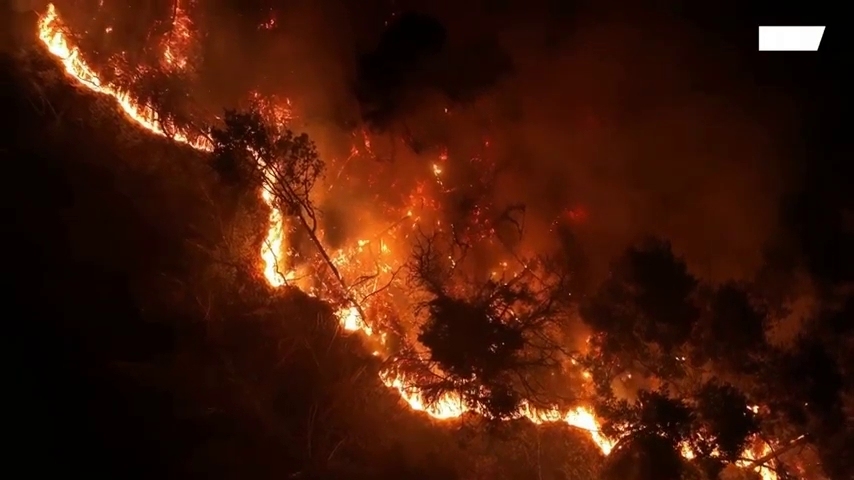forest_fire: (259, 152, 452, 354), (38, 3, 211, 150), (514, 401, 614, 453), (379, 369, 476, 419), (160, 0, 190, 68), (489, 251, 531, 281), (741, 444, 776, 479), (469, 204, 496, 239), (264, 101, 290, 125), (352, 134, 370, 153), (564, 207, 586, 221), (333, 159, 349, 177), (315, 185, 332, 191), (683, 444, 691, 456), (490, 245, 502, 249), (448, 258, 456, 263), (257, 96, 263, 101), (319, 230, 322, 239), (477, 156, 481, 161), (268, 177, 273, 180), (454, 230, 457, 234), (268, 171, 272, 174), (437, 371, 439, 374), (462, 231, 464, 234), (356, 134, 361, 135), (585, 374, 587, 375), (396, 312, 397, 314), (318, 192, 319, 194)
